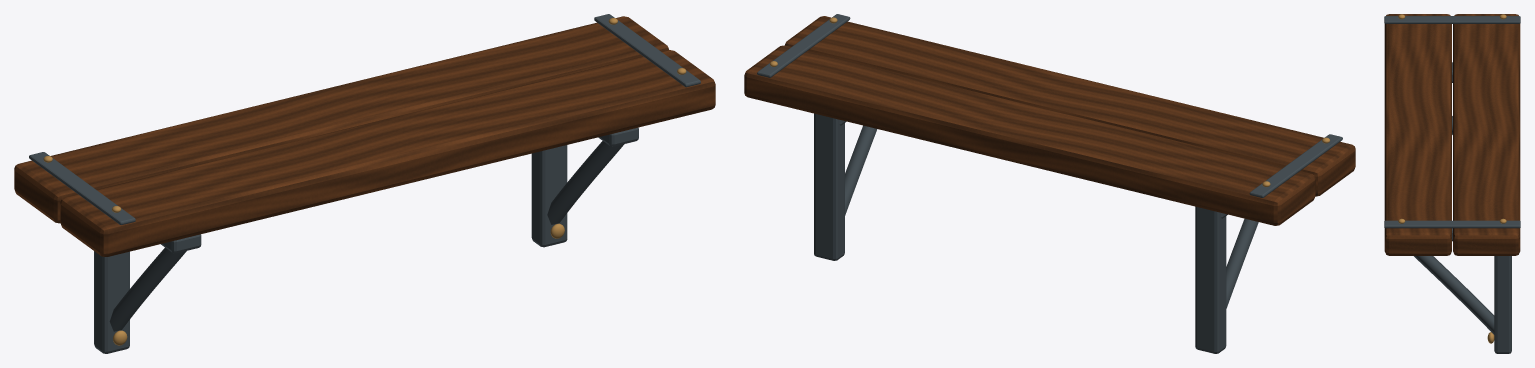
The model's file is Shelf.glb.
3 renders of one model, left to right at view 1: azimuth 30°, elevation 25°; view 2: azimuth 150°, elevation 25°; view 3: azimuth 270°, elevation 25°, orthographic. The views are drawn at different scales.
Visible parts, largest first — view 1: Single_Tier_Oak_Plank, Single_Tier_Oak_Plank.001, Wall_Bracket.001, Wall_Bracket, Curved_Support.001, Curved_Support, Corner_Strap, Corner_Strap.001; view 2: Single_Tier_Oak_Plank.001, Single_Tier_Oak_Plank, Wall_Bracket, Wall_Bracket.001, Corner_Strap, Corner_Strap.001, Curved_Support, Curved_Support.001; view 3: Single_Tier_Oak_Plank, Single_Tier_Oak_Plank.001, Wall_Bracket.001, Curved_Support.001, Corner_Strap.001, Corner_Strap.
Boxes of the visible parts, x1,y1,x2,y2 form: Single_Tier_Oak_Plank: [60, 50, 715, 256]; Single_Tier_Oak_Plank.001: [14, 16, 668, 223]; Wall_Bracket.001: [531, 145, 567, 247]; Wall_Bracket: [94, 251, 129, 353]; Curved_Support.001: [547, 141, 624, 224]; Curved_Support: [109, 247, 186, 331]; Corner_Strap: [29, 152, 135, 225]; Corner_Strap.001: [594, 14, 700, 87]; Single_Tier_Oak_Plank.001: [744, 45, 1315, 225]; Single_Tier_Oak_Plank: [784, 16, 1355, 196]; Wall_Bracket: [1195, 206, 1226, 353]; Wall_Bracket.001: [814, 113, 844, 260]; Corner_Strap: [1249, 134, 1342, 197]; Corner_Strap.001: [757, 14, 850, 77]; Curved_Support: [1226, 218, 1258, 308]; Curved_Support.001: [845, 125, 877, 215]; Single_Tier_Oak_Plank: [1384, 14, 1451, 255]; Single_Tier_Oak_Plank.001: [1453, 14, 1520, 255]; Wall_Bracket.001: [1494, 256, 1511, 353]; Curved_Support.001: [1414, 256, 1494, 334]; Corner_Strap.001: [1384, 220, 1520, 228]; Corner_Strap: [1384, 16, 1520, 23].
Bounding box in the file's own units: 1.35 × 0.4358 × 0.35.
Materials: 3 (1 with a texture image).
